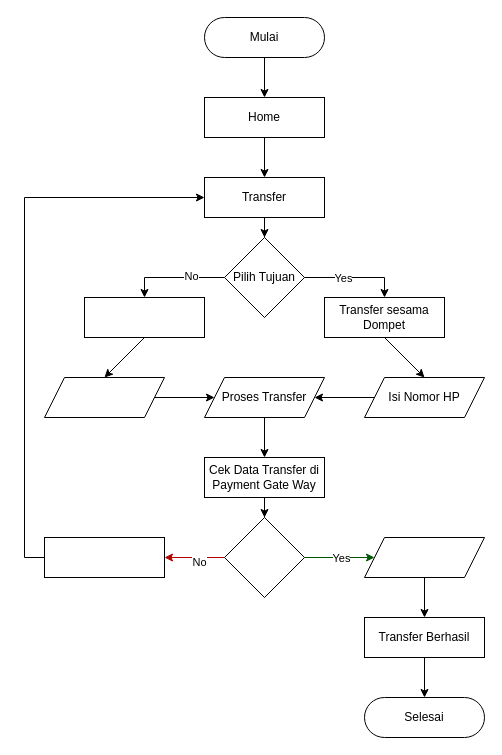
Image size: 502x755. Some labels were removed from this diagram. The shapes that lost their labels are listed below. From the top down, each one's centre as x and y in pixels, then its label:
At pixel 144 317: "Transfer Bank".
At pixel 104 397: "Pilih Bank dan isi rekening".
At pixel 104 557: "Data Transfer bermasalah".
At pixel 264 557: "Data Sesuai?".
At pixel 424 557: "Verifikasi PIN".
